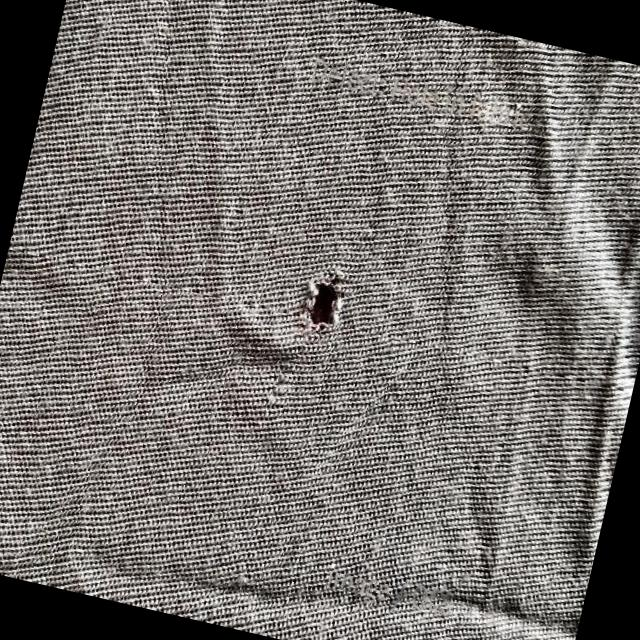cut: (288, 252, 362, 351)
